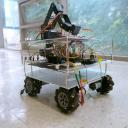cart: (19, 38, 115, 114)
